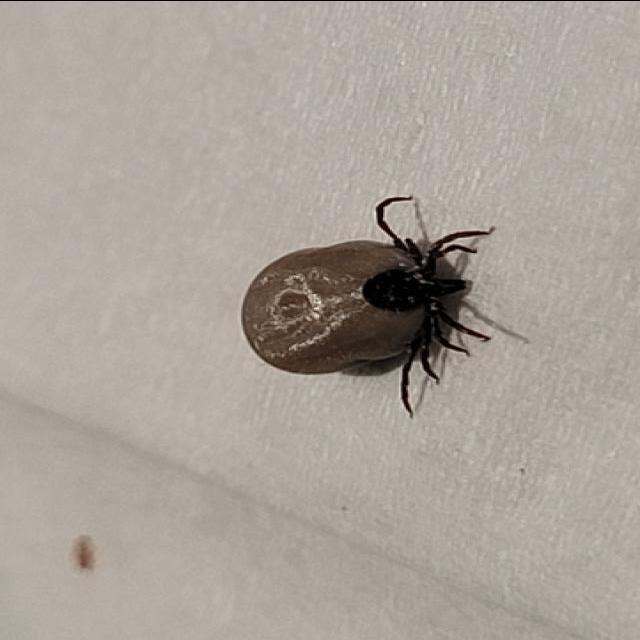Ixodes Ricinus-F-Fed: (241, 195, 493, 417)
